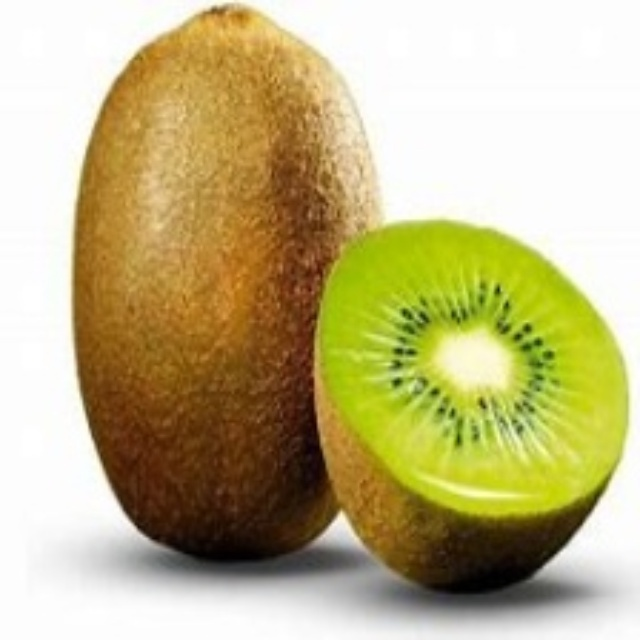kiwi: (68, 3, 376, 560), (307, 218, 623, 600)
